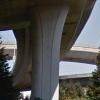Bridge: (8, 8, 89, 81)
